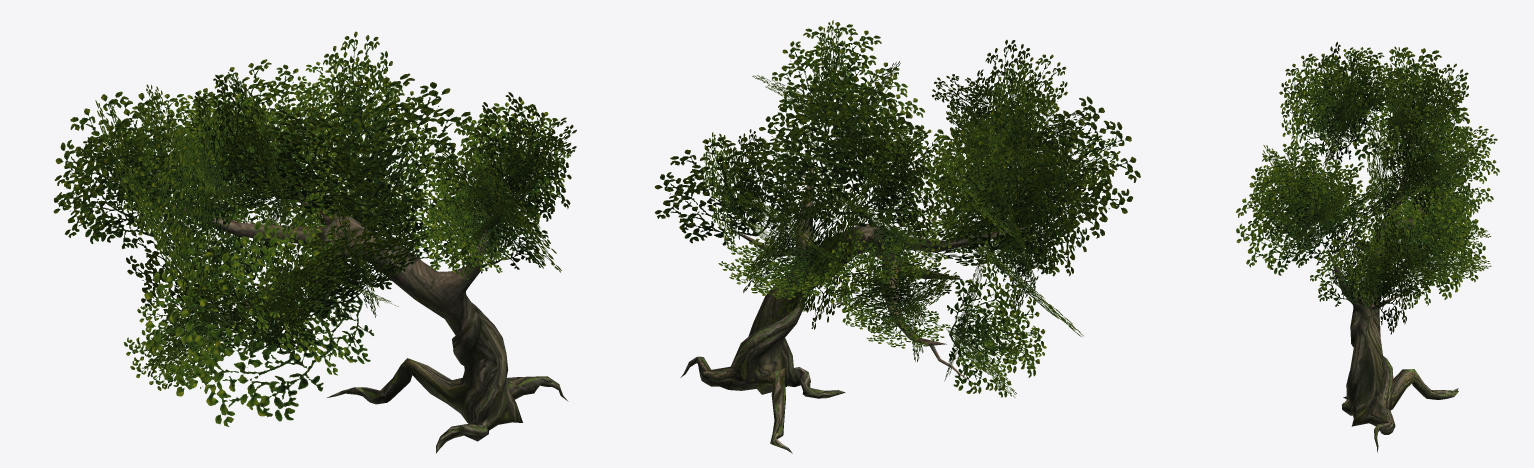
The model's file is qys_tree03_LOD2.FBX.
3 renders of one model, left to right at view 1: azimuth 30°, elevation 25°; view 2: azimuth 150°, elevation 25°; view 3: azimuth 270°, elevation 25°, orthographic. The views are drawn at different scales.
Visible parts, largest first — view 1: qys_tree03_02_LOD2, qys_tree03_01_LOD2; view 2: qys_tree03_02_LOD2, qys_tree03_01_LOD2; view 3: qys_tree03_02_LOD2, qys_tree03_01_LOD2.
Part boxes in pixels (x1=…): qys_tree03_02_LOD2: x1=53, y1=31, x2=576, y2=426; qys_tree03_01_LOD2: x1=165, y1=193, x2=568, y2=453; qys_tree03_02_LOD2: x1=655, y1=20, x2=1140, y2=397; qys_tree03_01_LOD2: x1=680, y1=159, x2=1029, y2=453; qys_tree03_02_LOD2: x1=1236, y1=42, x2=1499, y2=334; qys_tree03_01_LOD2: x1=1327, y1=129, x2=1458, y2=452.
Bounding box in the file's own units: 3468 × 2675 × 2516.
